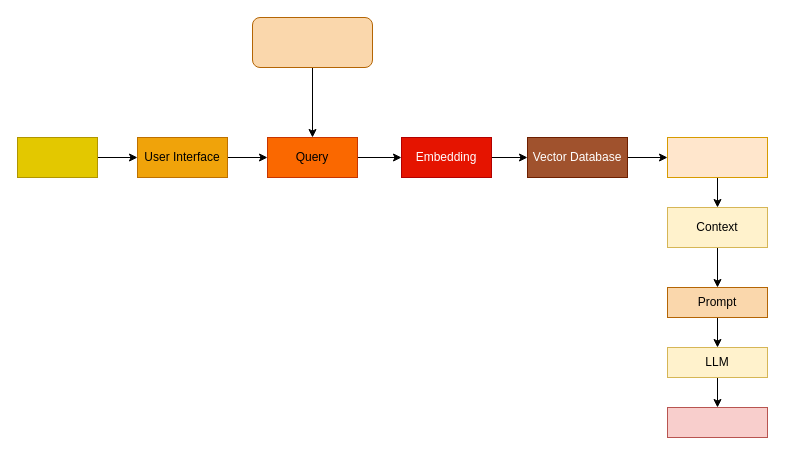
Some shapes in this 785 by 455 pixel diagram are drawn without their labels. Each missing label, with the box of its shape:
Data Processing Pipeline: (252, 16, 372, 68)
Response: (666, 406, 768, 438)
Top-K: (666, 136, 768, 178)
User: (16, 136, 98, 178)
